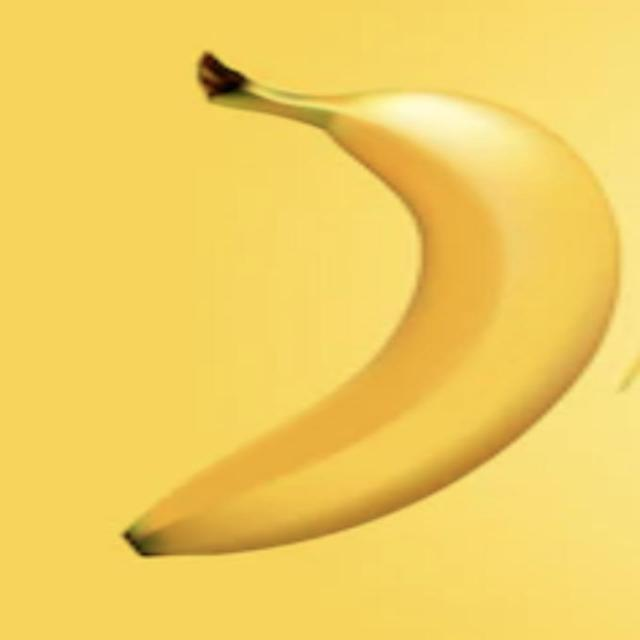banana: (101, 3, 635, 638)
